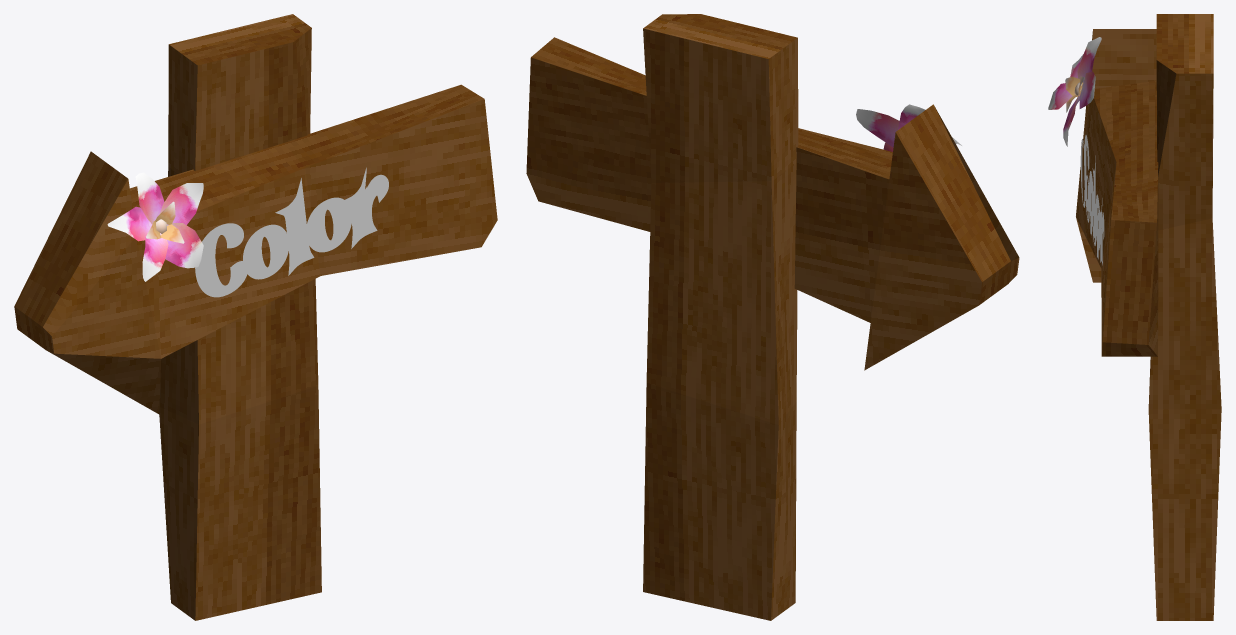
Rendered from sign.gltf.
3 views of the same model, side by side, from view 1: azimuth 30°, elevation 25°; view 2: azimuth 150°, elevation 25°; view 3: azimuth 270°, elevation 25° (orthographic). The views are drawn at different scales.
Visible parts, largest first — view 1: Cube.001, Cube, Plane.001, Text, Text.001; view 2: Cube, Cube.001, Plane.001; view 3: Cube, Cube.001, Plane.001, Text.001, Text.
Part boxes in pixels (<box>): Cube.001: <box>14,84,497,414</box>; Cube: <box>159,14,321,620</box>; Plane.001: <box>107,172,203,281</box>; Text: <box>200,180,387,294</box>; Text.001: <box>195,167,388,297</box>; Cube: <box>643,14,798,620</box>; Cube.001: <box>526,37,1019,370</box>; Plane.001: <box>856,104,961,151</box>; Cube: <box>1148,14,1221,620</box>; Cube.001: <box>1076,29,1158,356</box>; Plane.001: <box>1048,37,1101,146</box>; Text.001: <box>1084,135,1104,265</box>; Text: <box>1080,139,1100,259</box>.
Bounding box in the file's own units: 1.58 × 1.84 × 0.5286.
Materials: 5 (4 with a texture image).
